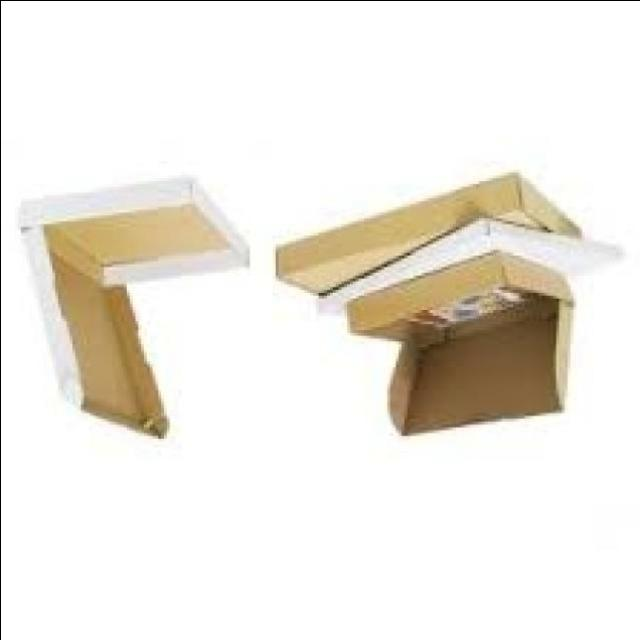cardboard paper: (19, 182, 246, 439), (345, 255, 569, 436), (275, 176, 578, 294)
